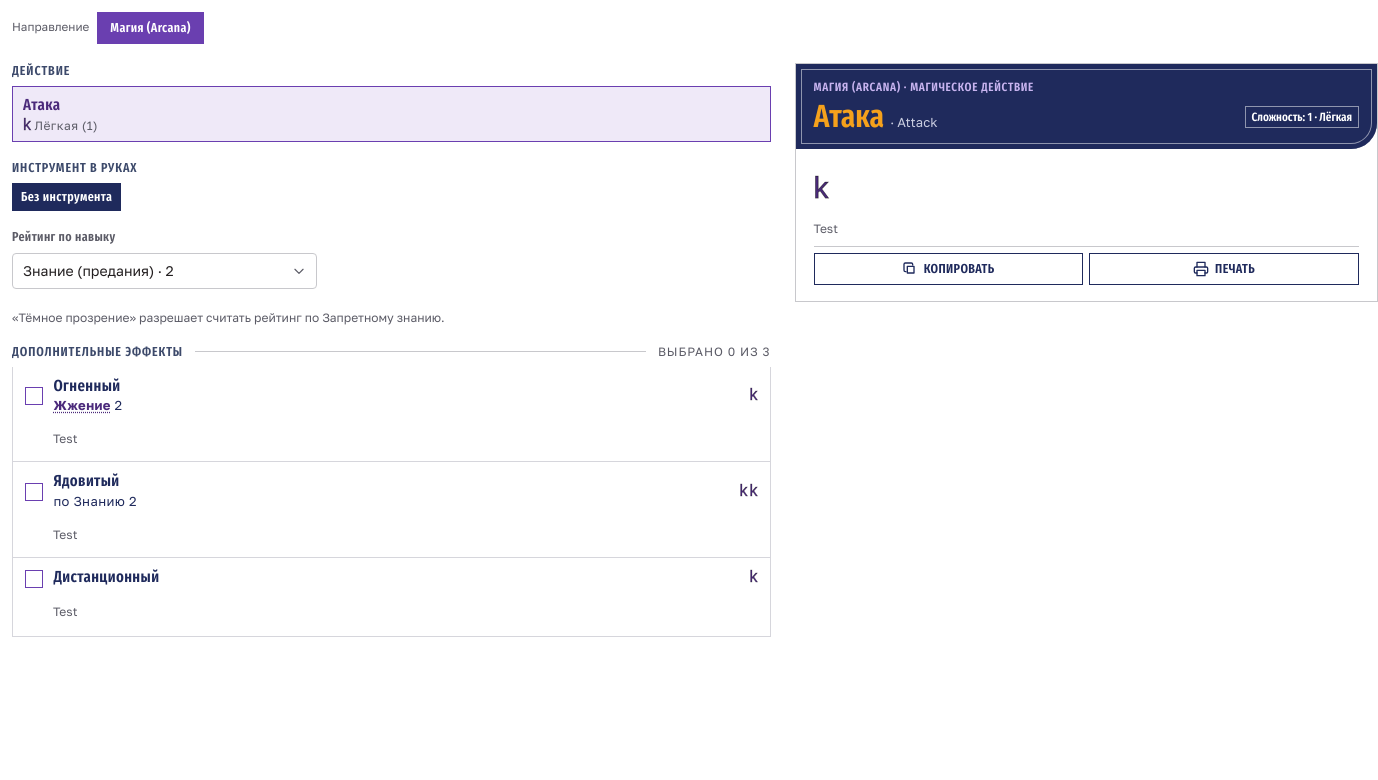
Test: MagicBuilder — рейтинг по Знанию › когда правило даёт выбор, игрок выбирает навык и числа пересчитываются
Expected: the text "Сложность: 1 · Лёгкая" is shown, [1245,106,1359,128]
Expected: the element "Огненный Жжение 2 Test" is shown, [12,367,770,462]
Press the mouse on the dropdown named "Рейтинг по навыку" at (164, 271), box [12,253,316,289]
Click the dropdown named "Рейтинг по навыку". click: (164, 271)
box: [12,253,316,289]
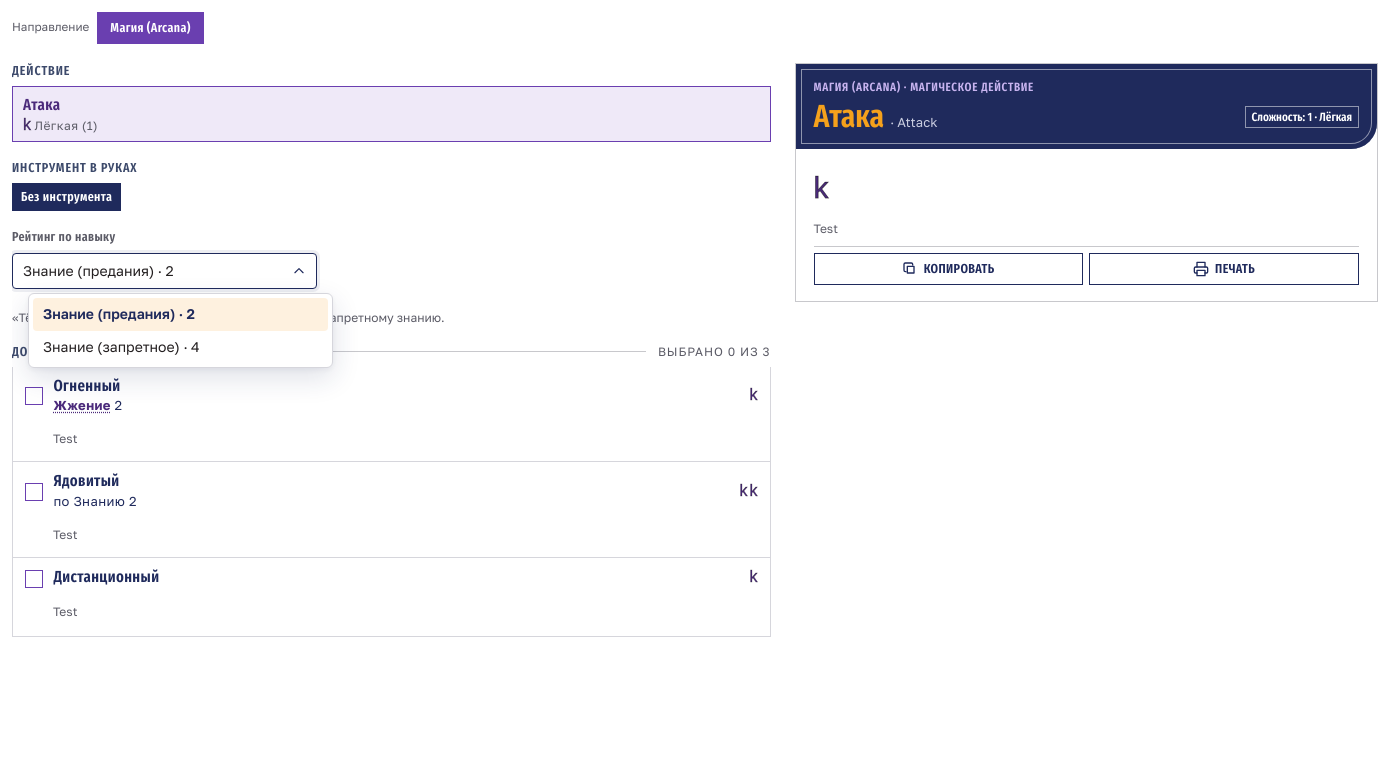
Click the option "Знание (запретное) · 4". click: (121, 346)
box: [43,338,200,355]
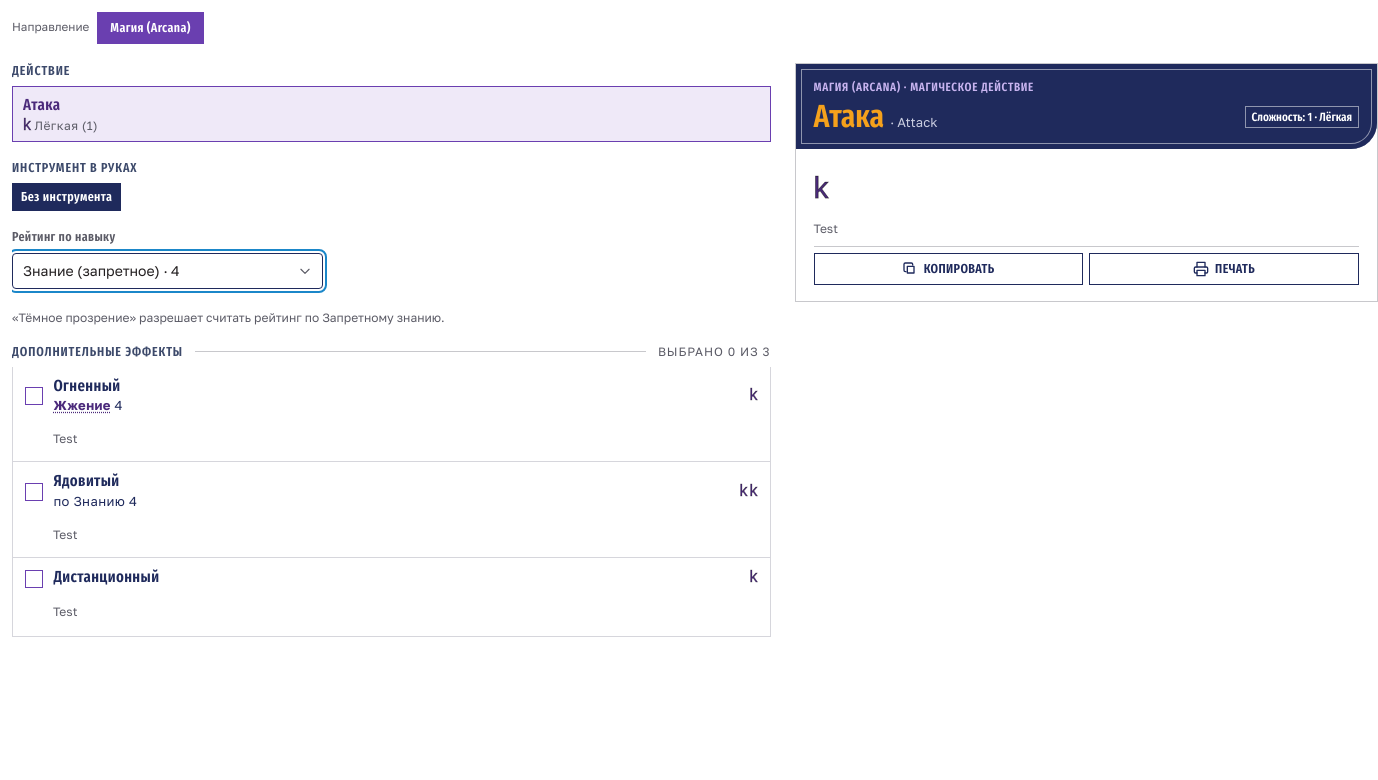
Expected: the element "Огненный Жжение 4 Test" is shown, [12,367,770,462]
Expected: the element "Ядовитый по Знанию 4 Test" is shown, [12,462,770,558]
